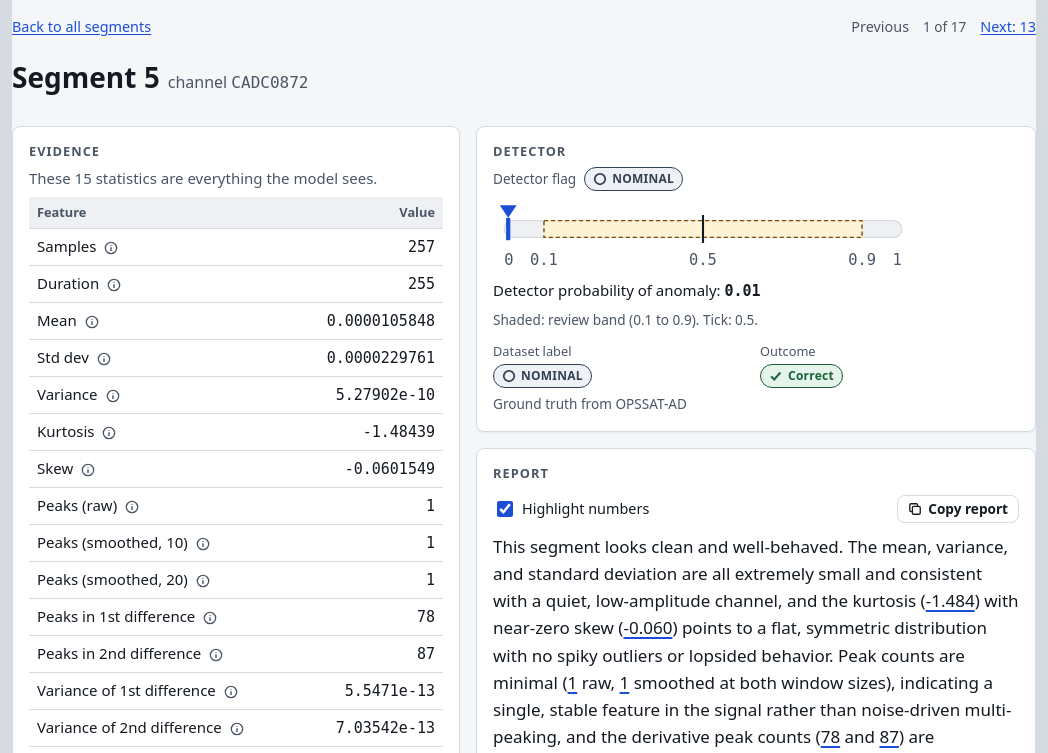
Test: Segment page › highlights numbers by default, and can show plain text
The image size is (1048, 753).
Click the checkbox labelled "Highlight numbers" at [505, 509], box [497,501,513,517]
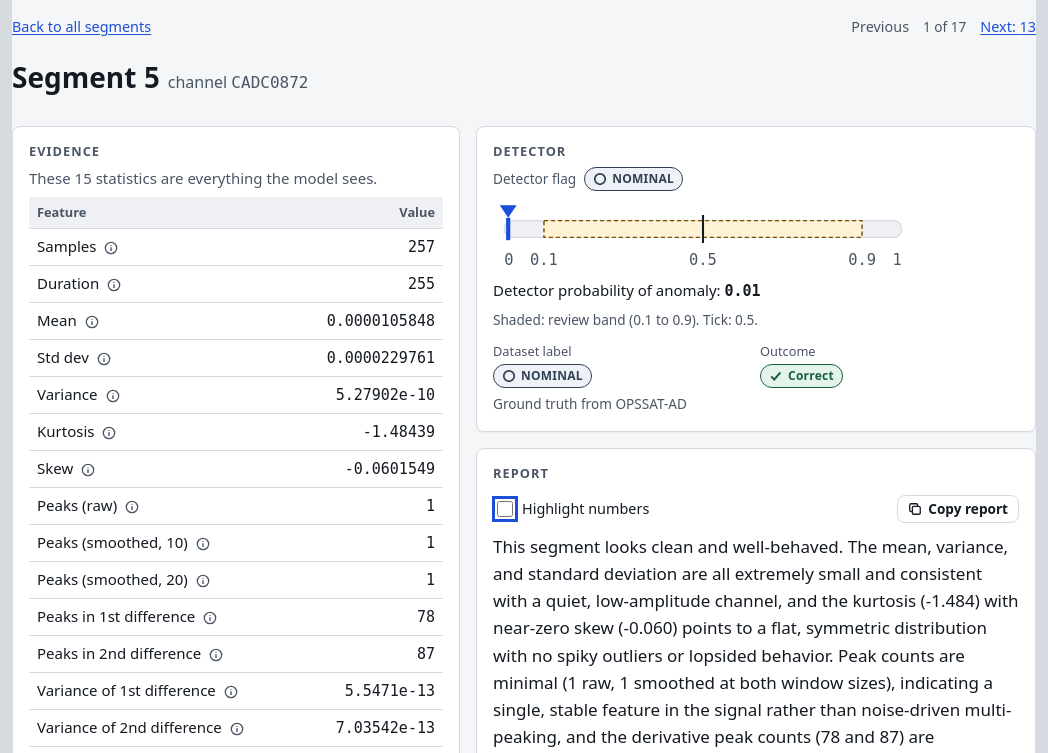
Result: no elements with class "num" are shown
